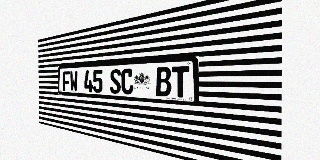4: (84, 70, 93, 92)
5: (93, 70, 103, 93)
B: (156, 67, 171, 97)
C: (121, 68, 133, 95)
F: (63, 71, 70, 91)
S: (110, 69, 121, 94)
T: (172, 66, 189, 98)
W: (70, 71, 78, 91)
